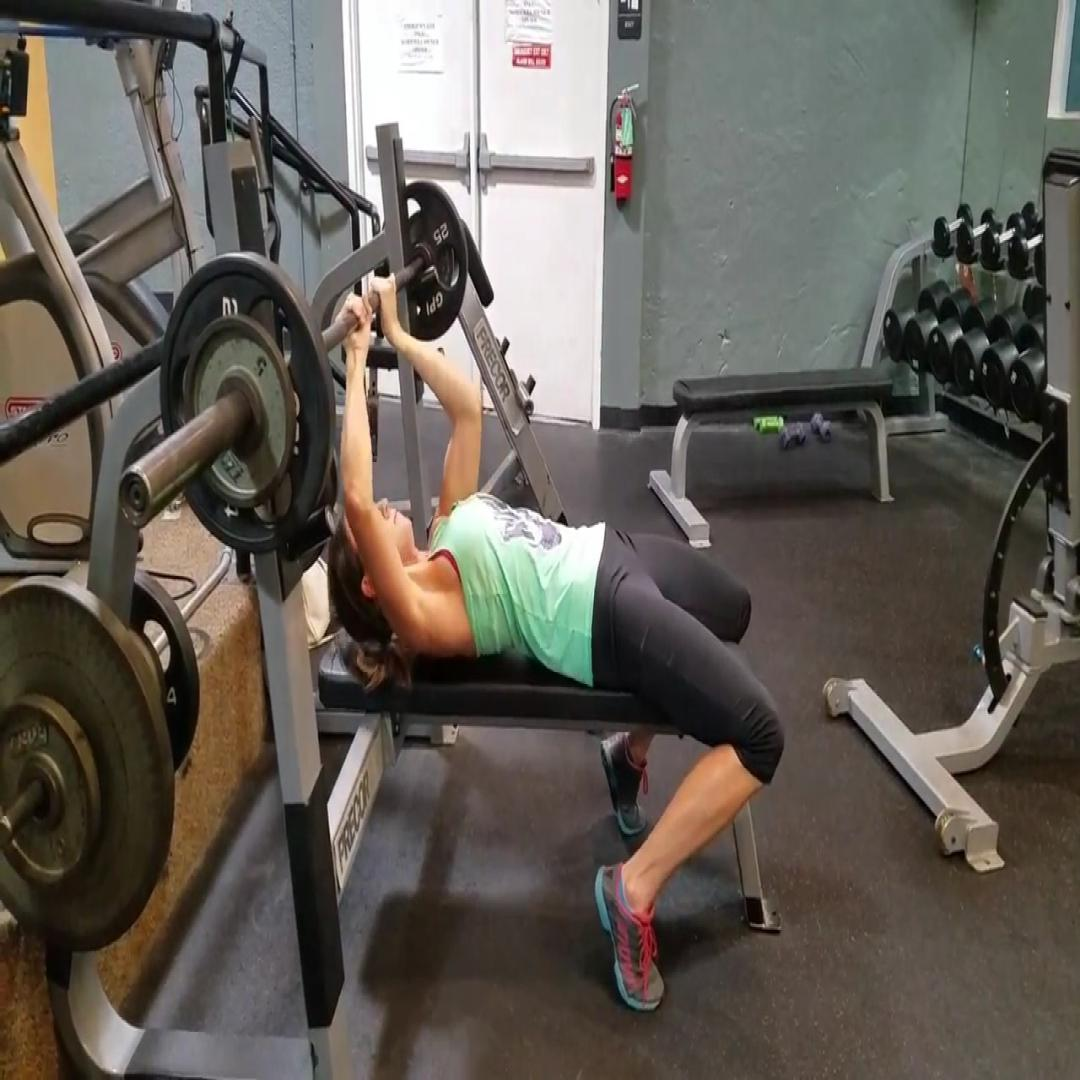Bar: (117, 463, 155, 531)
Barbell: (159, 255, 332, 555)
